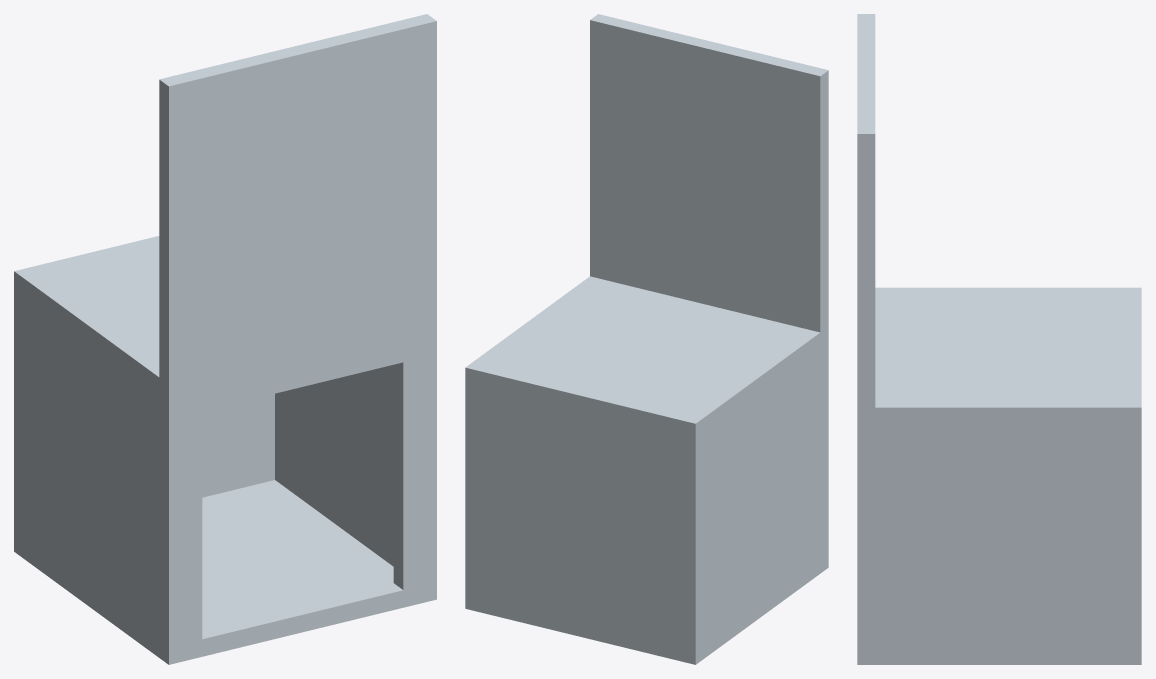
The model's file is dispenser.obj.
3 renders of one model, left to right at view 1: azimuth 30°, elevation 25°; view 2: azimuth 150°, elevation 25°; view 3: azimuth 270°, elevation 25°, orthographic. The views are drawn at different scales.
Parts seen in each view (by area): view 1: dispenser; view 2: dispenser; view 3: dispenser.
Boxes of the visible parts, left/top/right/bottom form: dispenser: left=14, top=14, right=436, bottom=664; dispenser: left=465, top=14, right=828, bottom=664; dispenser: left=857, top=14, right=1141, bottom=664.
Size of the model in its own units: 16 by 33 by 16.
1 material, 1 textured.
